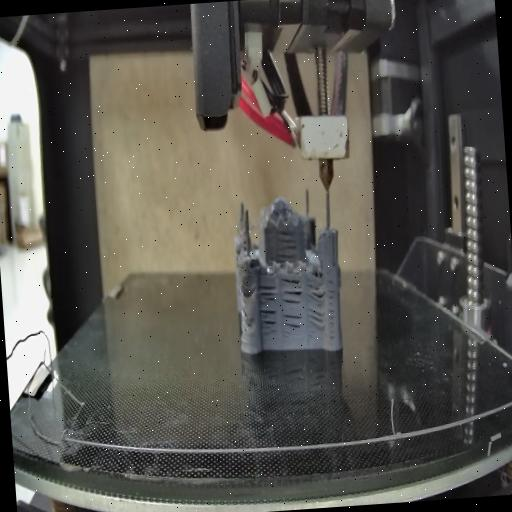cracks: (258, 279, 280, 336), (326, 272, 342, 342), (276, 230, 300, 260), (280, 276, 304, 304), (306, 306, 326, 335), (282, 311, 304, 336), (304, 280, 326, 304), (240, 307, 254, 331), (239, 278, 255, 298)
